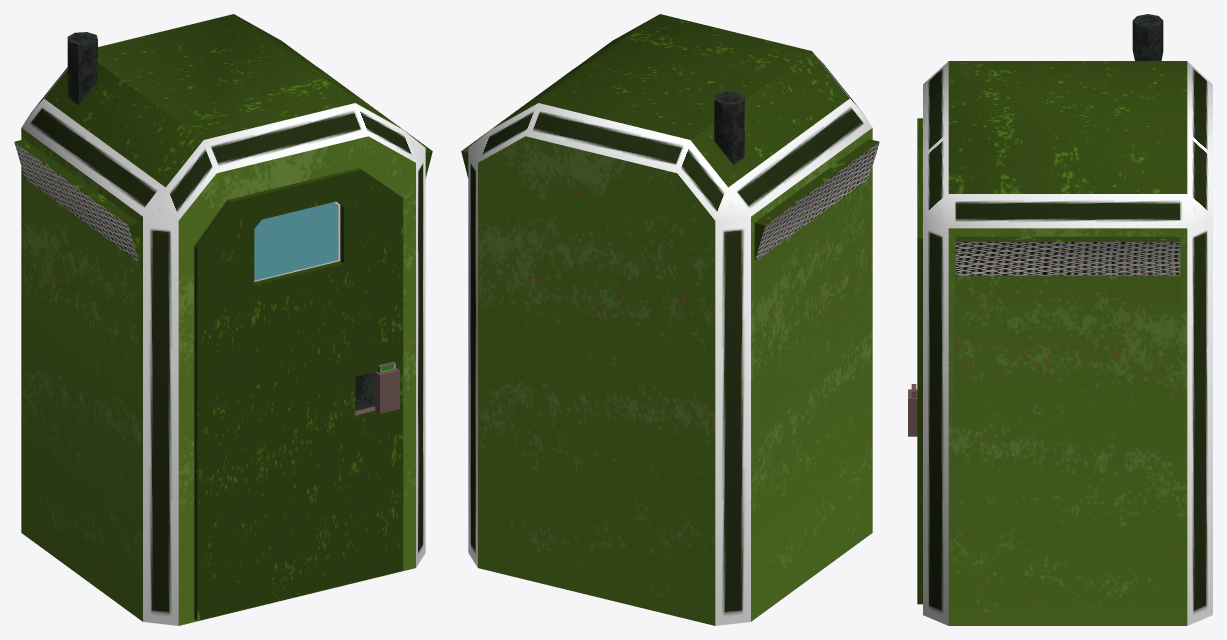
Rendered from Porta-potty (1).fbx.
3 renders of one model, left to right at view 1: azimuth 30°, elevation 25°; view 2: azimuth 150°, elevation 25°; view 3: azimuth 270°, elevation 25°, orthographic.
Visible parts, largest first — view 1: Cube; view 2: Cube; view 3: Cube.
Boxes of the visible parts, bbox=[...] form: Cube: bbox=[14, 14, 432, 625]; Cube: bbox=[461, 14, 879, 625]; Cube: bbox=[908, 14, 1212, 625].
Bounding box in the file's own units: 164 × 257 × 145.
1 material, 1 textured.
